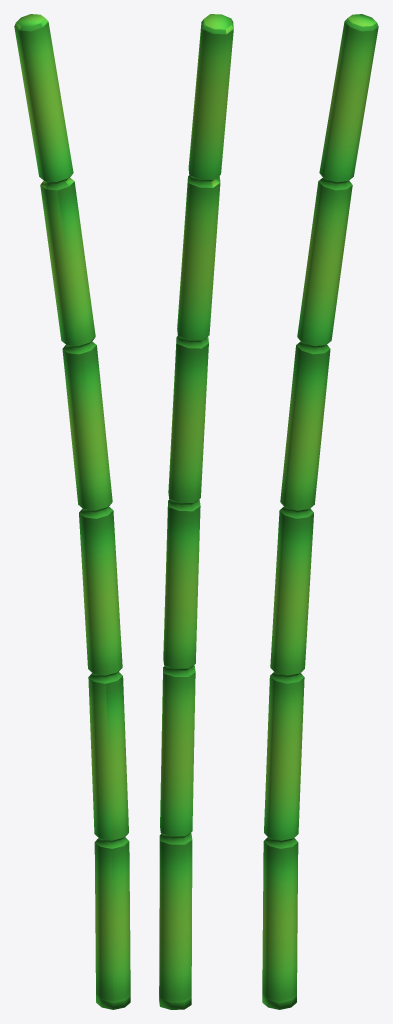
The model's file is bamboo_04.fbx.
3 views of the same model, side by side, from view 1: azimuth 90°, elevation 25°; view 2: azimuth 210°, elevation 25°; view 3: azimuth 270°, elevation 25° (orthographic). The views are drawn at different scales.
Parts seen in each view (by area): view 1: Cube.035; view 2: Cube.035; view 3: Cube.035.
Part boxes in pixels (x1,y1,x2,y2): Cube.035: (14,14,130,1009); Cube.035: (159,14,233,1009); Cube.035: (262,14,378,1009).
Bounding box in the file's own units: 23.7 × 742 × 79.51.
